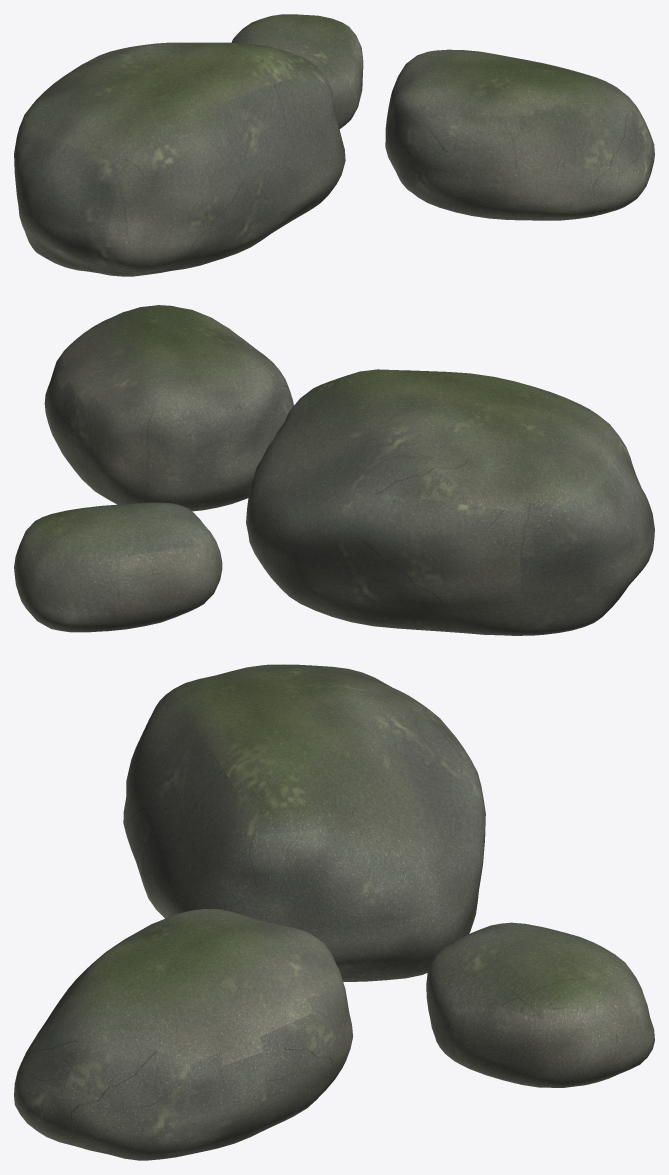
Rendered from bed_rock_e.gltf.
The picture shows the model from 3 angles, top to bottom: view 1: azimuth 30°, elevation 25°; view 2: azimuth 150°, elevation 25°; view 3: azimuth 270°, elevation 25°; orthographic projection. The views are drawn at different scales.
Visible parts, largest first — view 1: bed_rock_e_LOD0; view 2: bed_rock_e_LOD0; view 3: bed_rock_e_LOD0.
Boxes of the visible parts, box(x1,y1,x2,y2) form: bed_rock_e_LOD0: box(14, 14, 654, 276); bed_rock_e_LOD0: box(14, 305, 654, 635); bed_rock_e_LOD0: box(14, 664, 654, 1160).
Size of what is drawn, in the model's own units: 0.7048 by 0.2036 by 0.529.
1 material, 1 textured.
